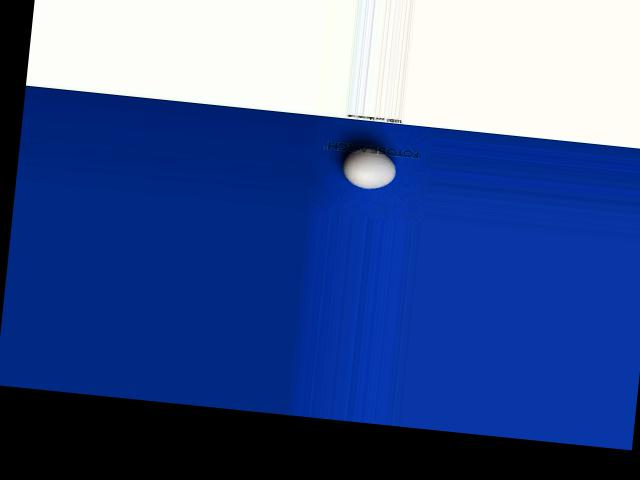egg: (340, 144, 397, 190)
